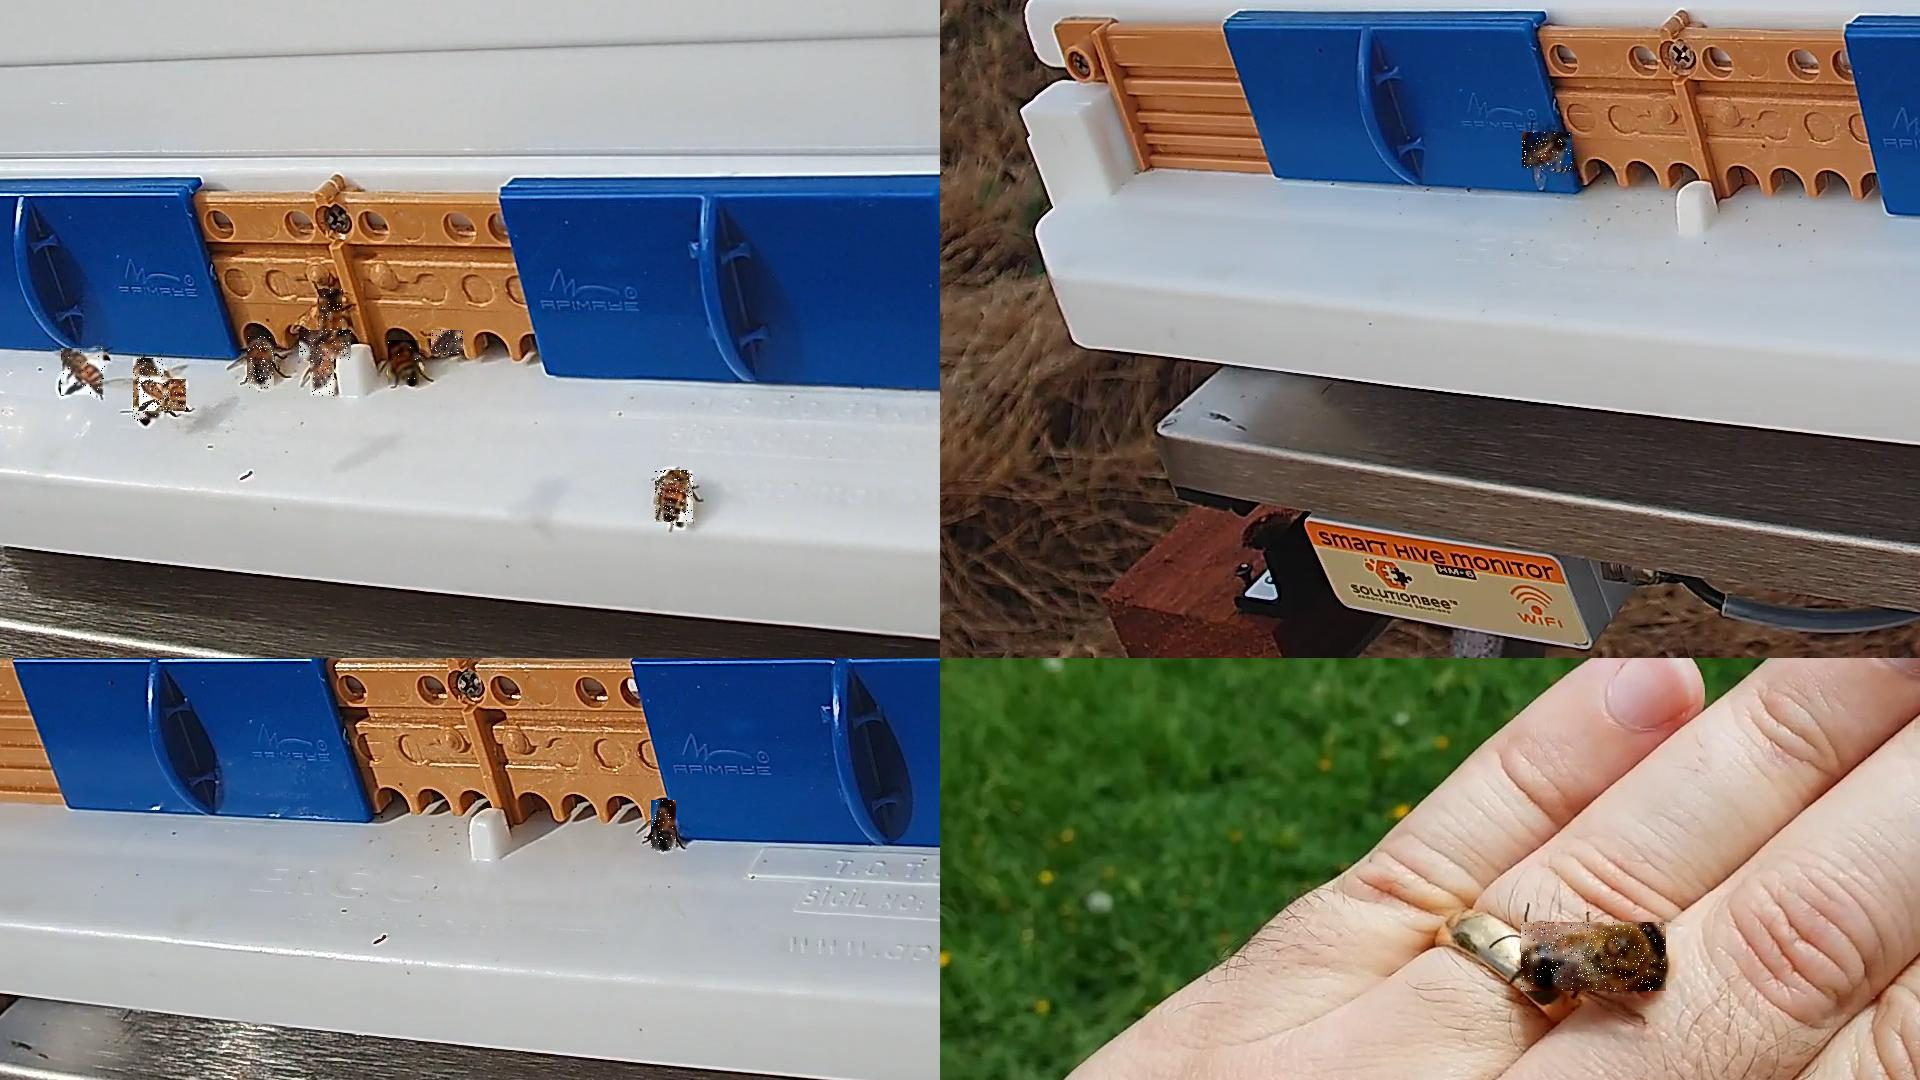bee: (62, 348, 108, 396), (655, 471, 694, 527), (133, 359, 165, 423), (1522, 133, 1573, 172), (299, 331, 352, 362), (139, 379, 187, 412), (247, 337, 275, 390), (388, 340, 420, 386), (319, 289, 343, 346), (651, 800, 677, 852), (310, 350, 335, 399), (431, 330, 464, 355)
drone: (1521, 922, 1667, 992)
